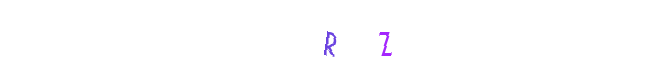3: (289, 0, 369, 80)
7: (291, 0, 371, 80)
9: (284, 0, 364, 80), (345, 0, 425, 80)
R: (312, 0, 392, 80)
Z: (321, 0, 401, 80)
